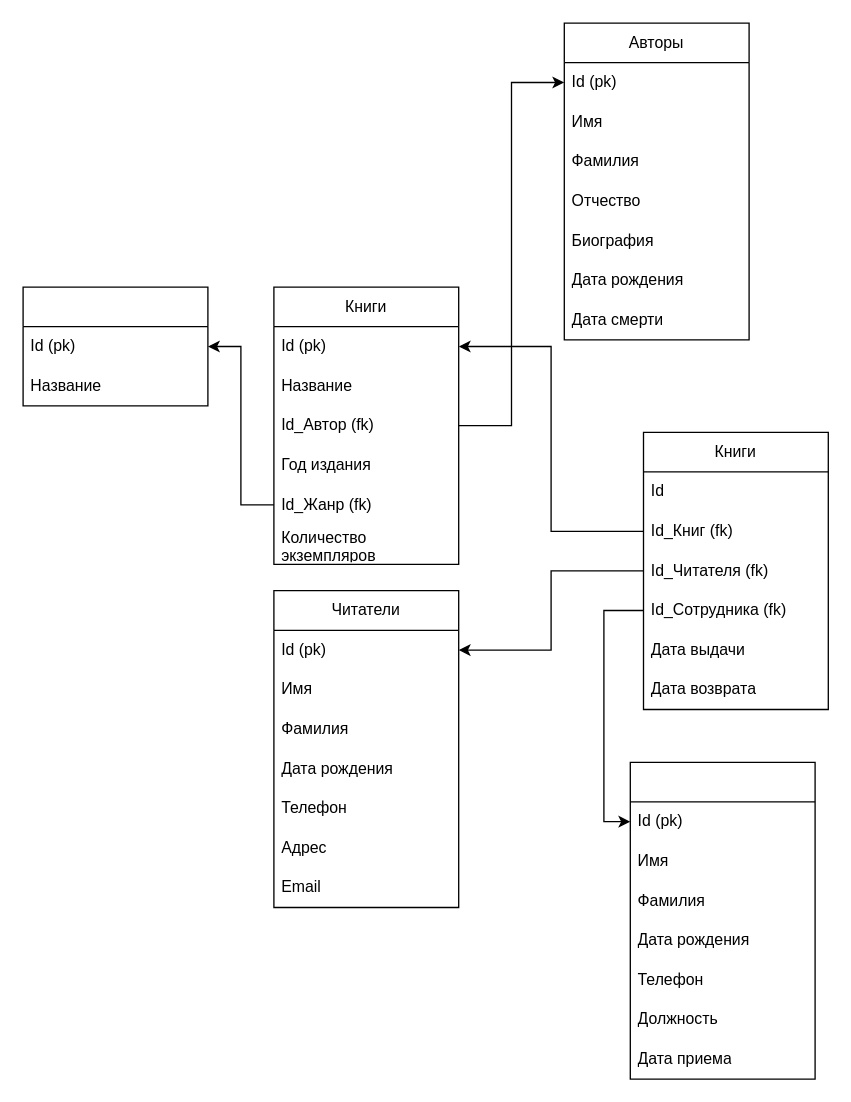
The diagram is 851 pixels wide and 1102 high, and some of its shapes have lost their labels. Here are the shapes that lost their labels. From the top down, the box of each, then its label:
(22, 286, 208, 406): Жанры
(629, 761, 815, 1079): Сотрудники
